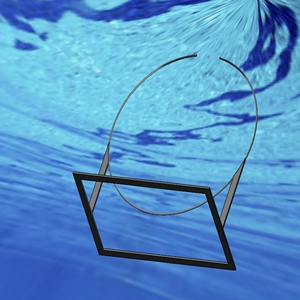circle: (72, 52, 259, 270)
